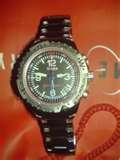watch: (14, 42, 95, 110)
